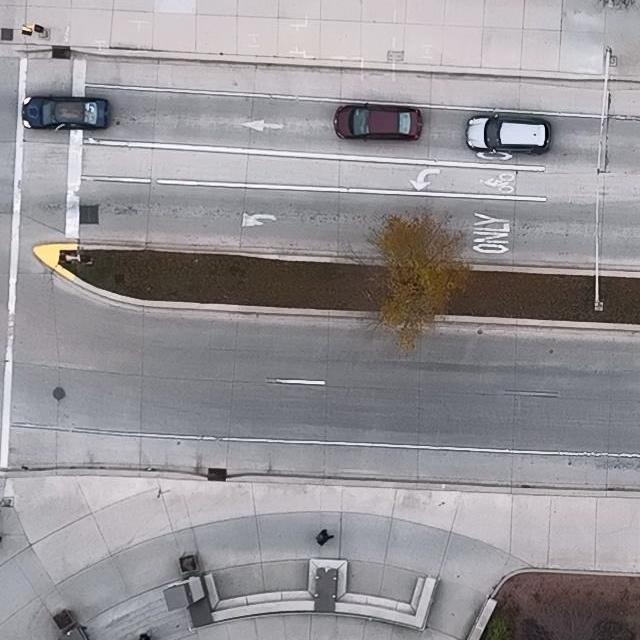car: (466, 114, 552, 155), (332, 102, 424, 140), (21, 94, 112, 132)
